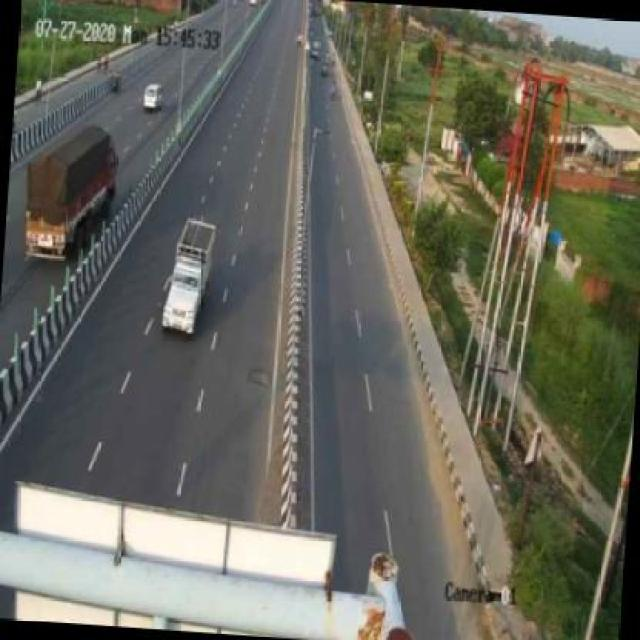car: (158, 217, 220, 341), (143, 78, 168, 114)
